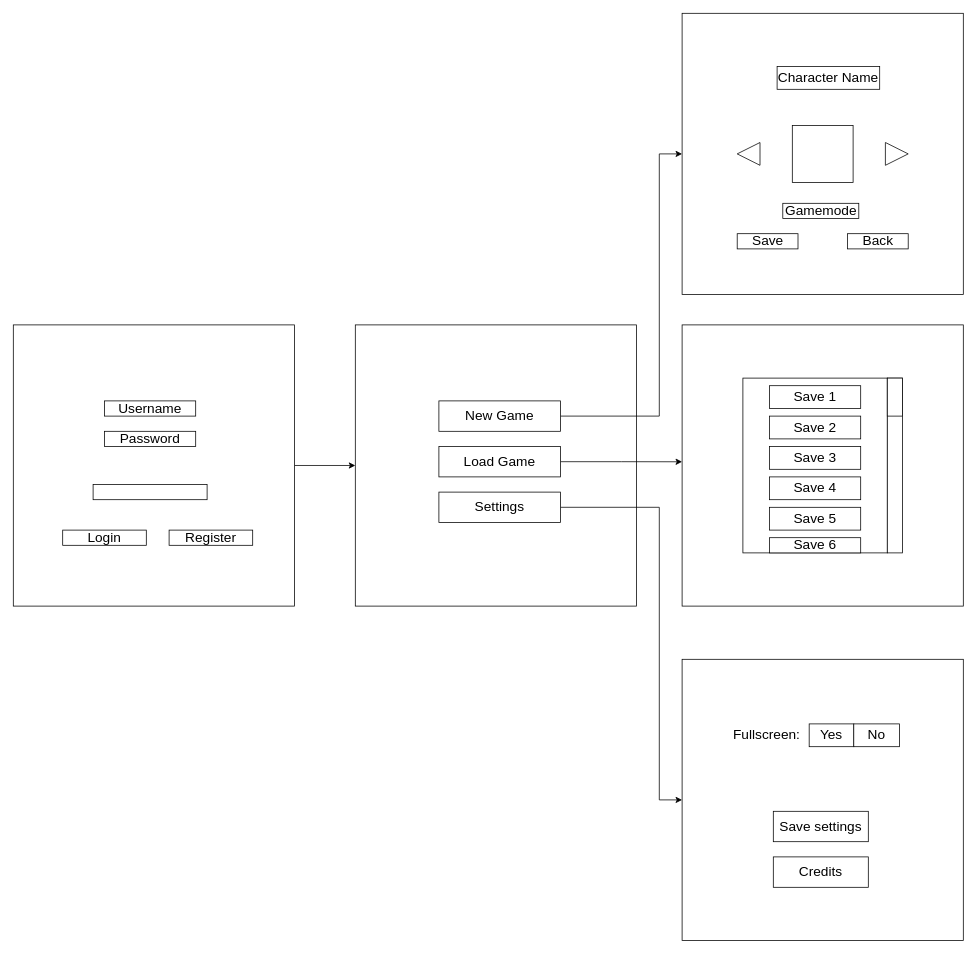
Some shapes in this 977 by 954 pixel diagram are drawn without their labels. Here are the shapes that lost their labels. From the top down, the centre of each, then its label:
point (822, 153): Character Image
point (149, 492): Offline Mode
